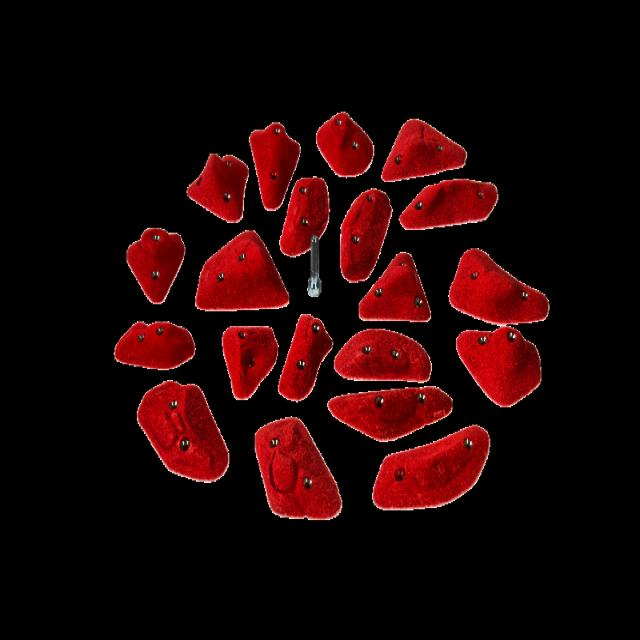Hold: (251, 414, 346, 524), (369, 429, 493, 512), (135, 379, 231, 485), (449, 244, 554, 325), (446, 321, 544, 406), (197, 226, 285, 310), (329, 384, 451, 441), (332, 316, 431, 383), (401, 172, 497, 240), (378, 116, 468, 183), (356, 247, 430, 322), (124, 219, 186, 305), (185, 147, 251, 221), (248, 118, 299, 210), (343, 186, 390, 282), (282, 174, 330, 259), (220, 327, 277, 398), (116, 318, 193, 370), (278, 318, 327, 396), (315, 110, 366, 177)
